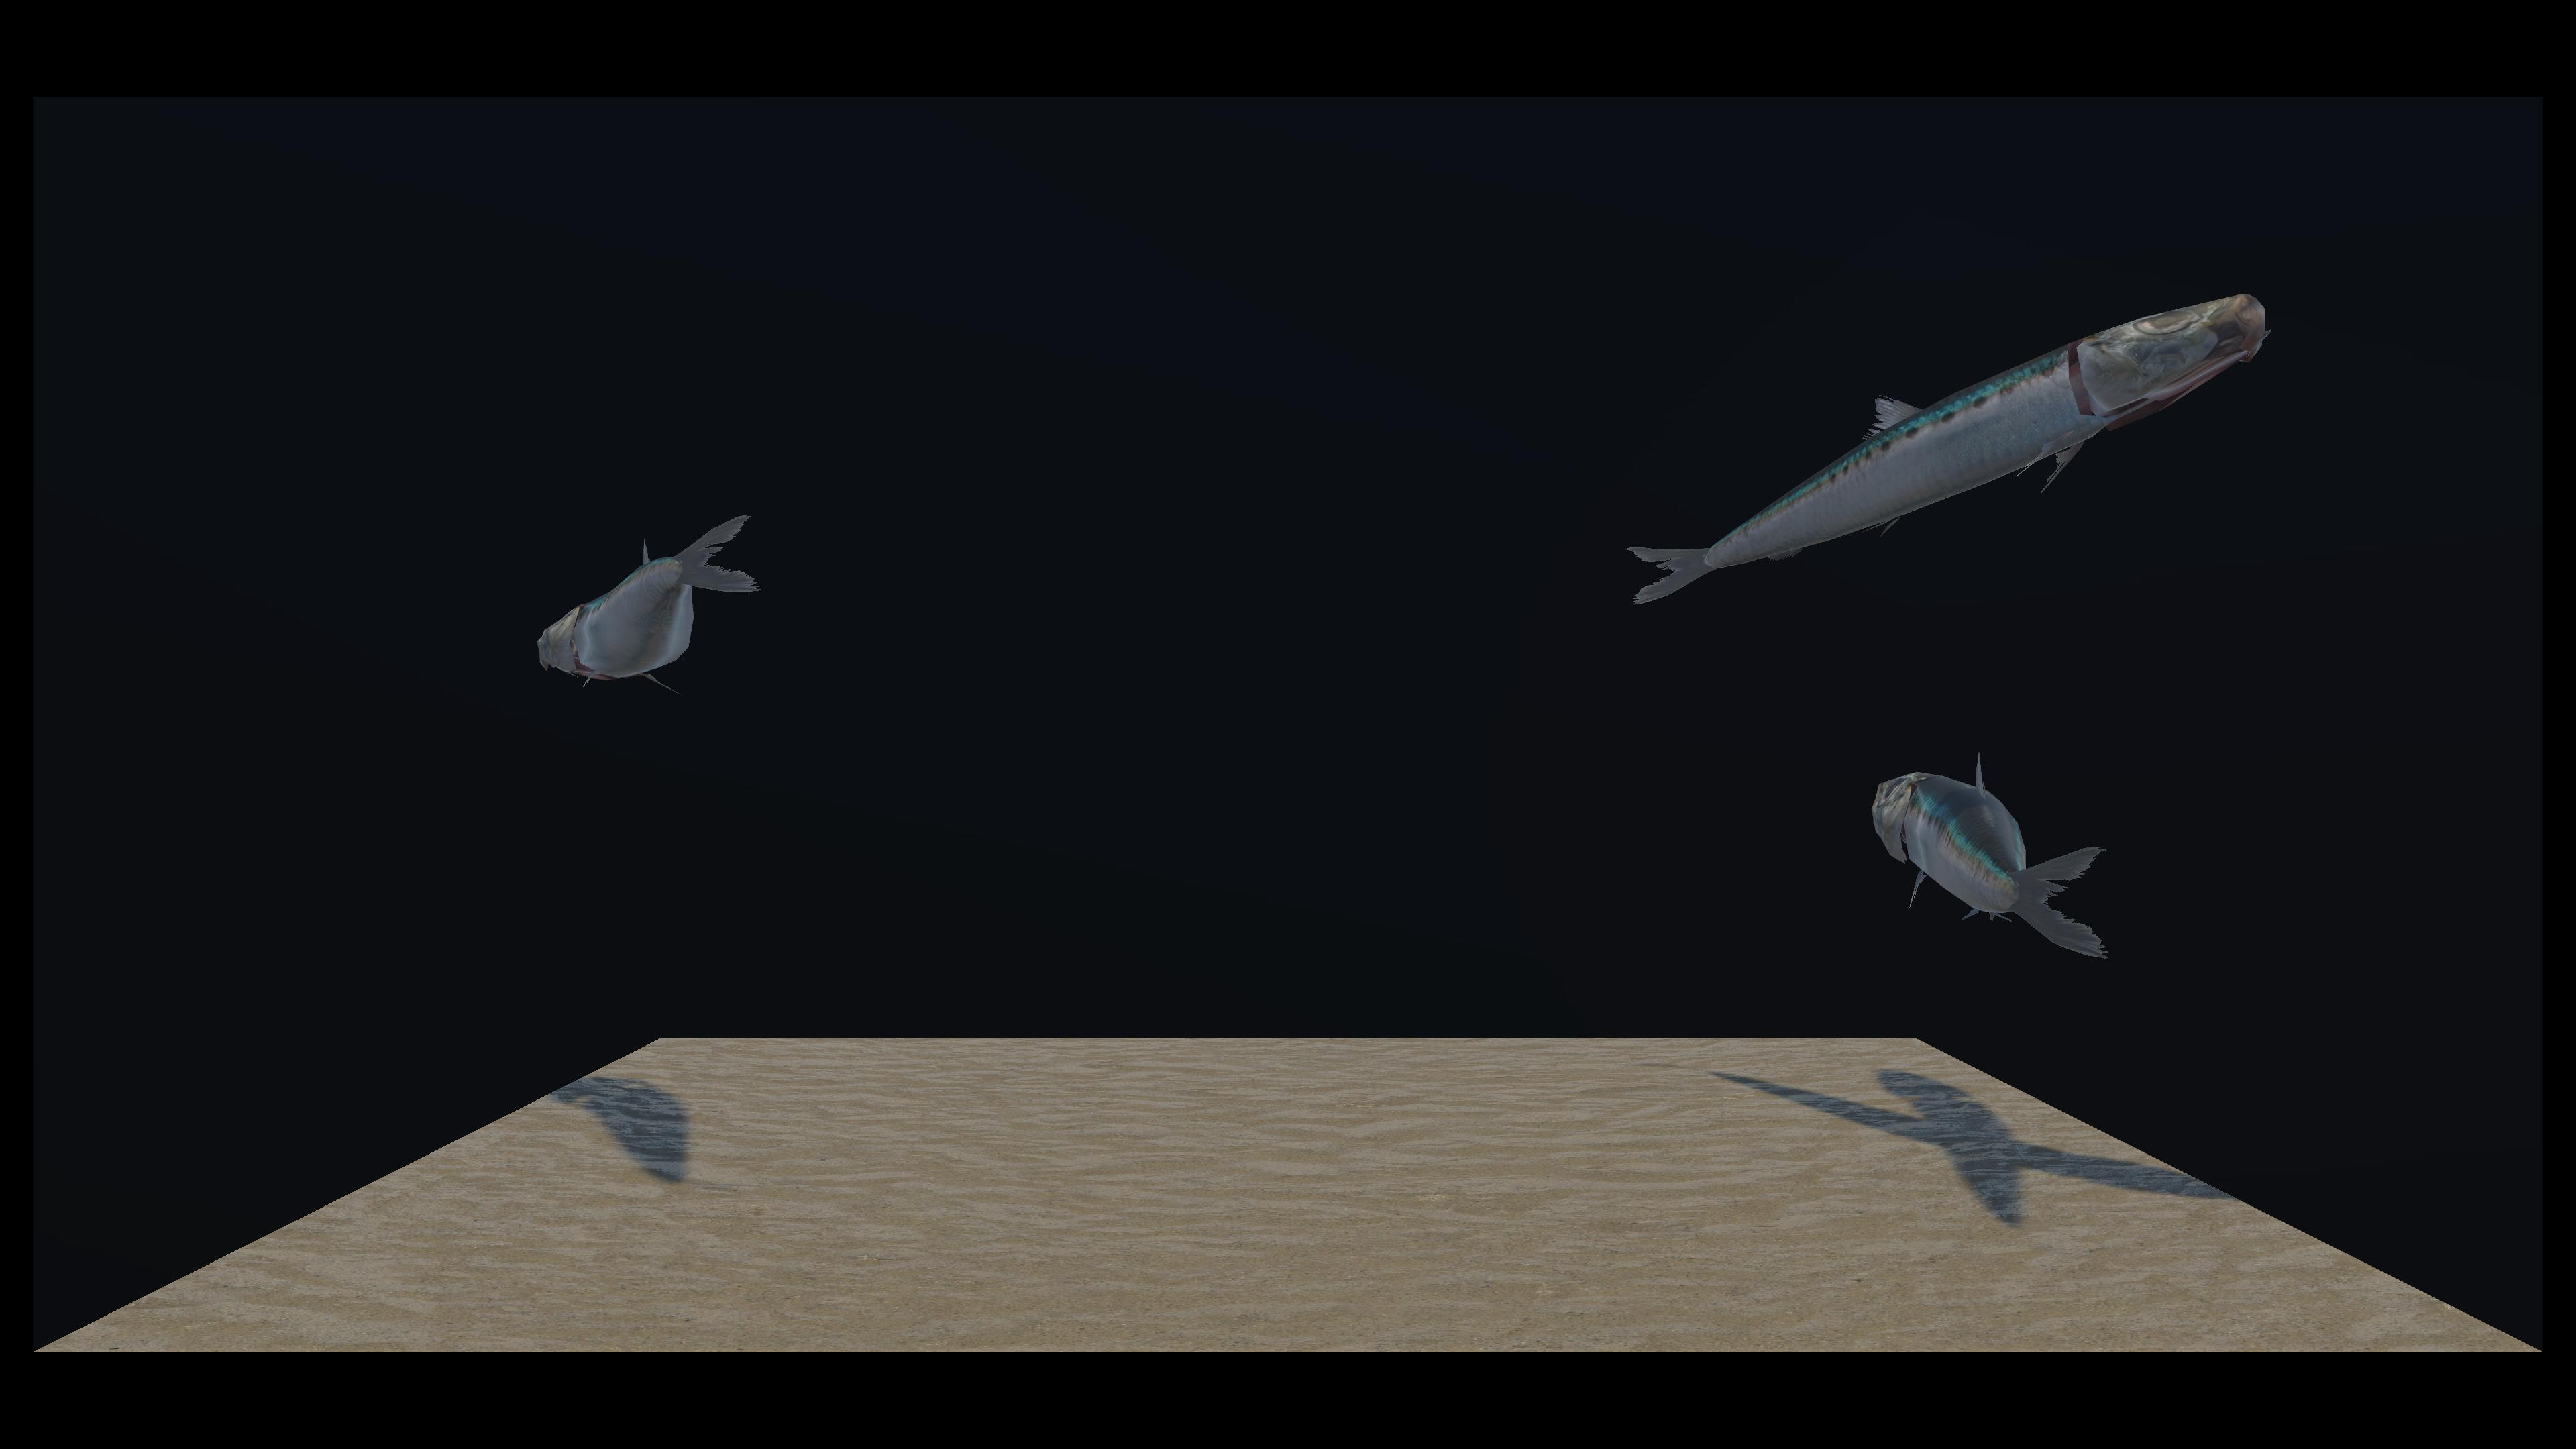Sardine_Front: (727, 410, 2104, 955), (966, 297, 2240, 603), (559, 288, 817, 702)
